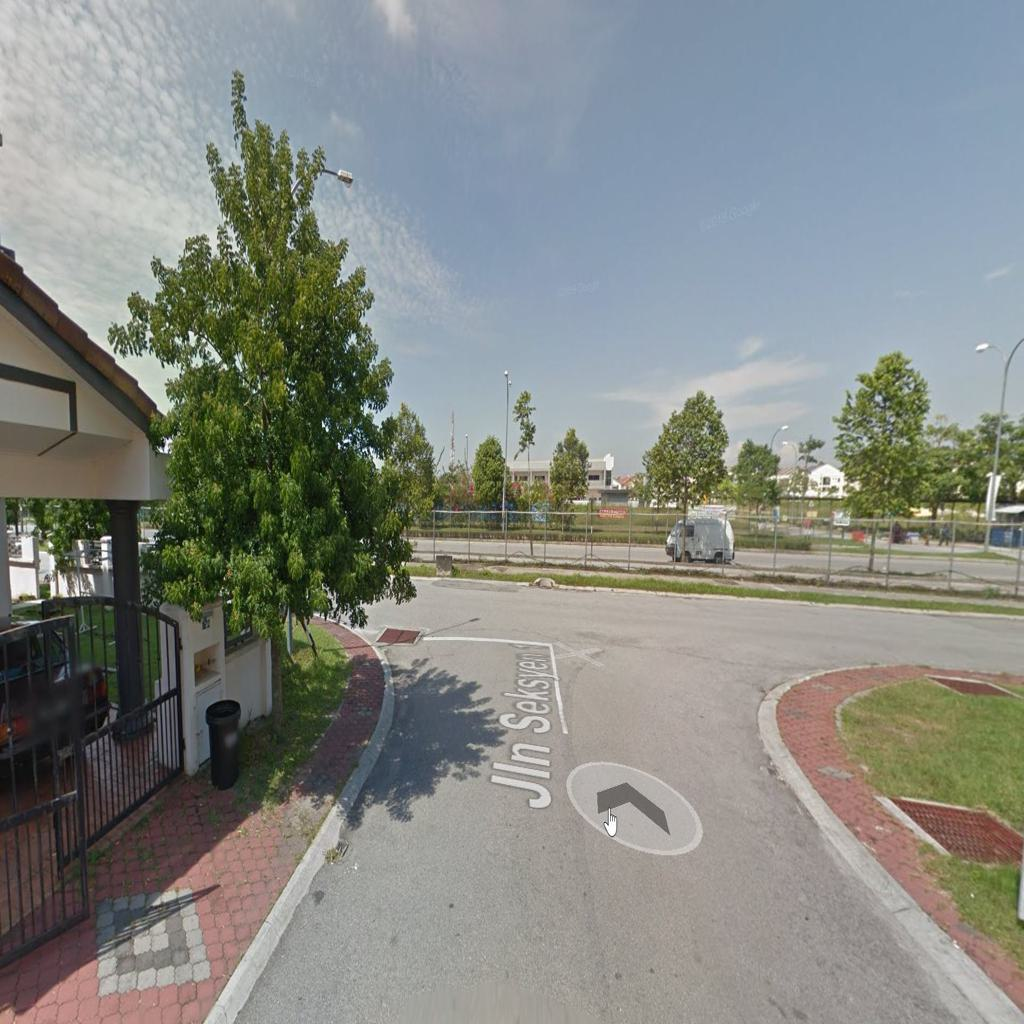Junction: (713, 578, 1015, 759), (315, 556, 478, 704)
